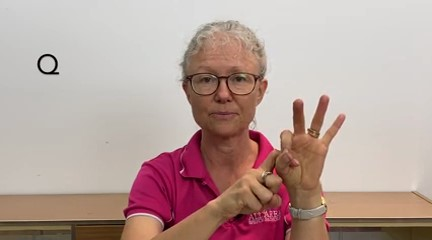Q: (227, 90, 354, 224)
